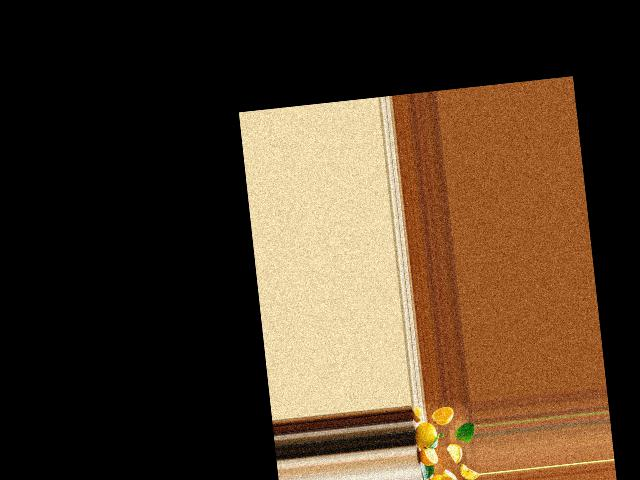lemon: (428, 473, 449, 480)
